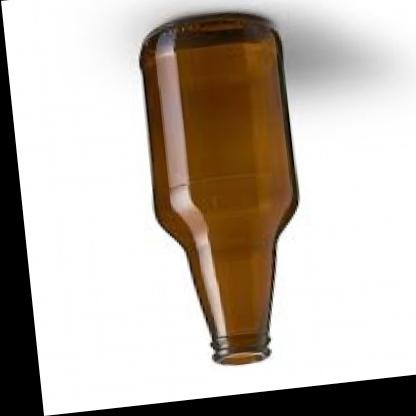trash: (140, 13, 297, 363)
